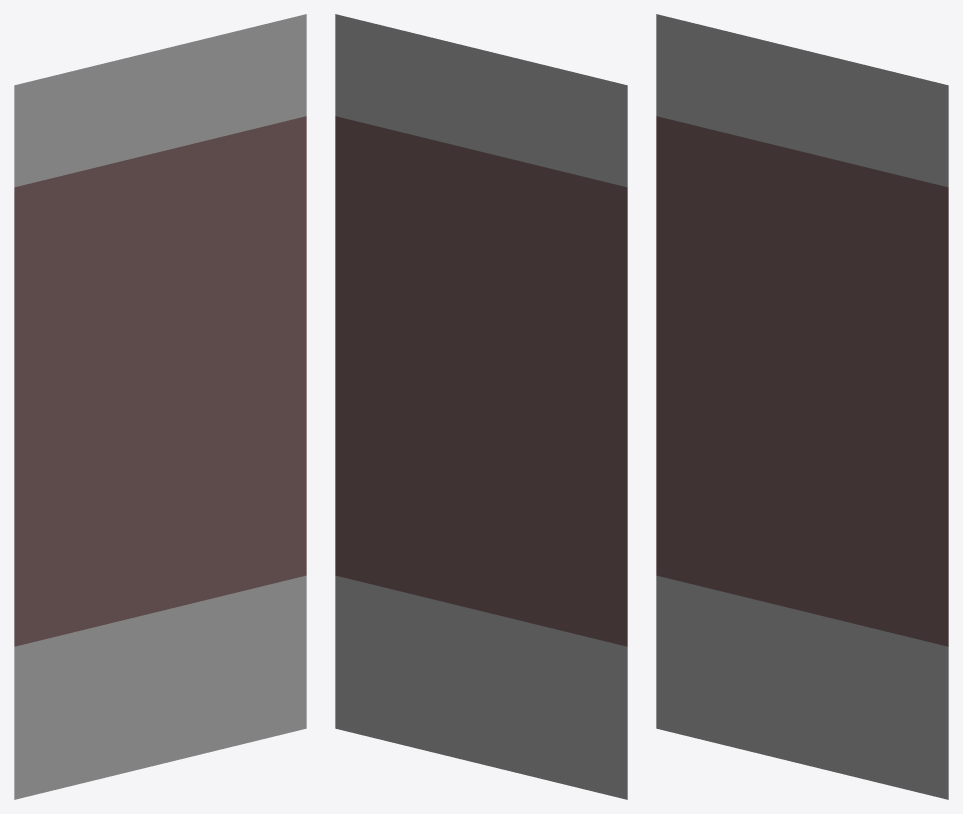
Rendered from minimuur.fbx.
The picture shows the model from 3 angles, left to right: view 1: azimuth 30°, elevation 25°; view 2: azimuth 150°, elevation 25°; view 3: azimuth 330°, elevation 25°; orthographic projection.
Parts seen in each view (by area): view 1: Plane737, Plane738, Object292, Object293, Plane849, Plane848; view 2: Plane738, Plane737, Object292, Object293, Plane848, Plane849; view 3: Plane737, Plane738, Object293, Object292, Plane848, Plane849.
Boxes of the visible parts, bbox=[...] form: Plane737: bbox=[14, 152, 160, 646]; Plane738: bbox=[160, 116, 306, 610]; Object292: bbox=[14, 611, 160, 799]; Object293: bbox=[160, 575, 306, 763]; Plane849: bbox=[160, 14, 306, 151]; Plane848: bbox=[14, 50, 160, 187]; Plane738: bbox=[335, 116, 481, 610]; Plane737: bbox=[481, 152, 627, 646]; Object292: bbox=[481, 611, 627, 799]; Object293: bbox=[335, 575, 481, 764]; Plane848: bbox=[481, 49, 627, 187]; Plane849: bbox=[335, 14, 481, 151]; Plane737: bbox=[656, 116, 802, 610]; Plane738: bbox=[802, 152, 948, 646]; Object293: bbox=[802, 611, 948, 799]; Object292: bbox=[656, 575, 802, 763]; Plane848: bbox=[656, 14, 802, 151]; Plane849: bbox=[802, 50, 948, 187].
Bounding box in the file's own units: 300 × 700 × 0.000215.
